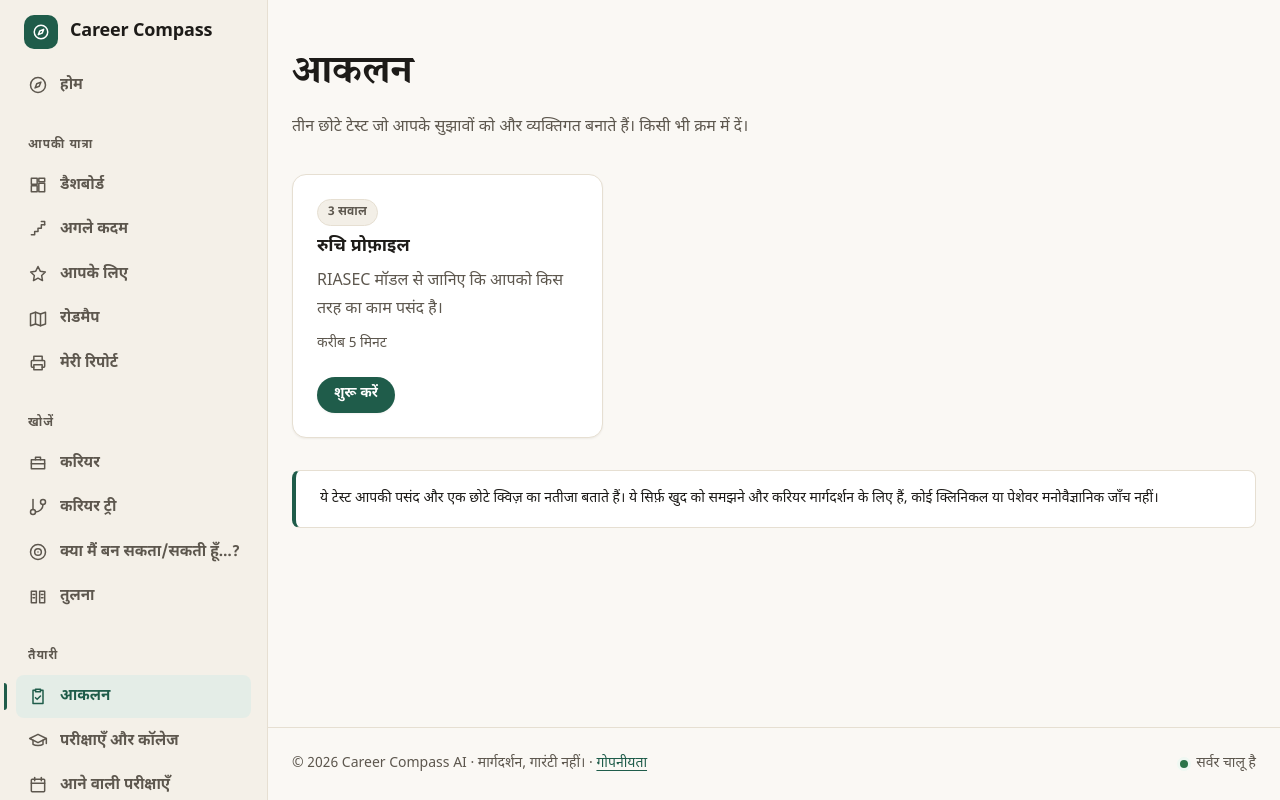
Test: Assessments in Hindi › test list and answer choices are in Hindi; the question text stays as sent
Expected: the heading "रुचि प्रोफ़ाइल" is shown, [317, 235, 410, 258]
Expected: the text "3 सवाल" is shown, [317, 199, 378, 226]
Click the link "शुरू करें": coordinates (356, 395) [317, 377, 395, 413]
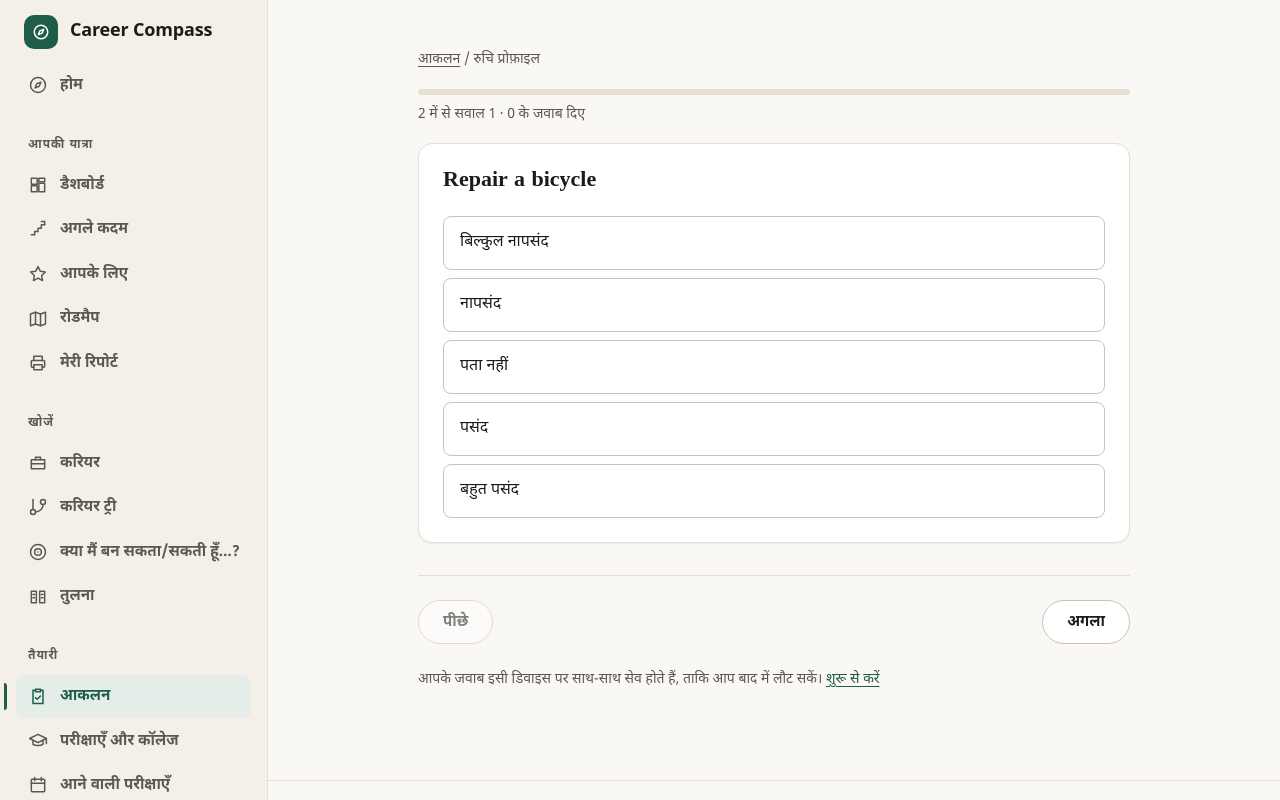
Expected: the heading "Repair a bicycle" is shown, [443, 166, 596, 200]
Expected: the radio button labelled "बहुत पसंद" is shown, [443, 464, 1105, 518]
Expected: the text "2 में से सवाल 1 · 0 के जवाब दिए" is shown, [418, 104, 585, 124]
